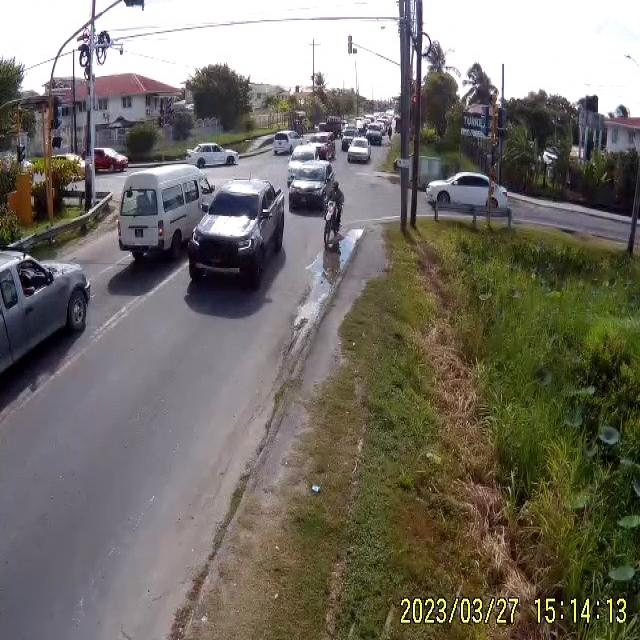car: (1, 245, 92, 445), (185, 179, 286, 286), (116, 166, 209, 262), (424, 172, 512, 212), (191, 144, 240, 169), (92, 149, 128, 172), (273, 131, 297, 157), (346, 142, 368, 164)
motorbike: (322, 180, 346, 249)
